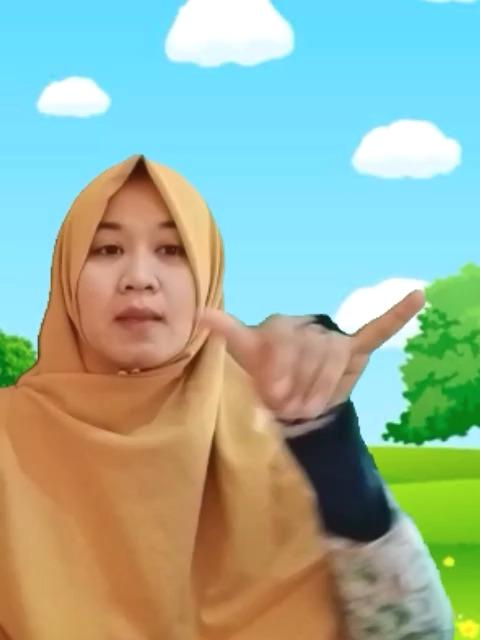Y: (186, 274, 436, 436)
